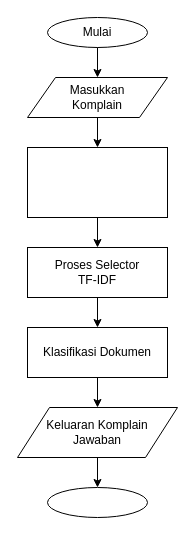
The diagram is 195 pixels wide and 535 high, and some of its shapes have lost their labels. The shapes that lost their labels are listed below. From the top down, each one's centre as x and y in pixels, then its label:
At point (97, 182): "Proses Text Mining (Case Folding, Tokenizing, Filtering, Stemming)".
At point (97, 502): "Stop".
